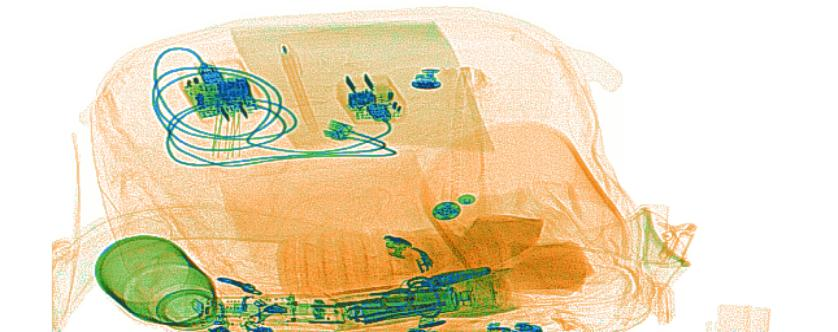battery: (353, 285, 457, 322)
